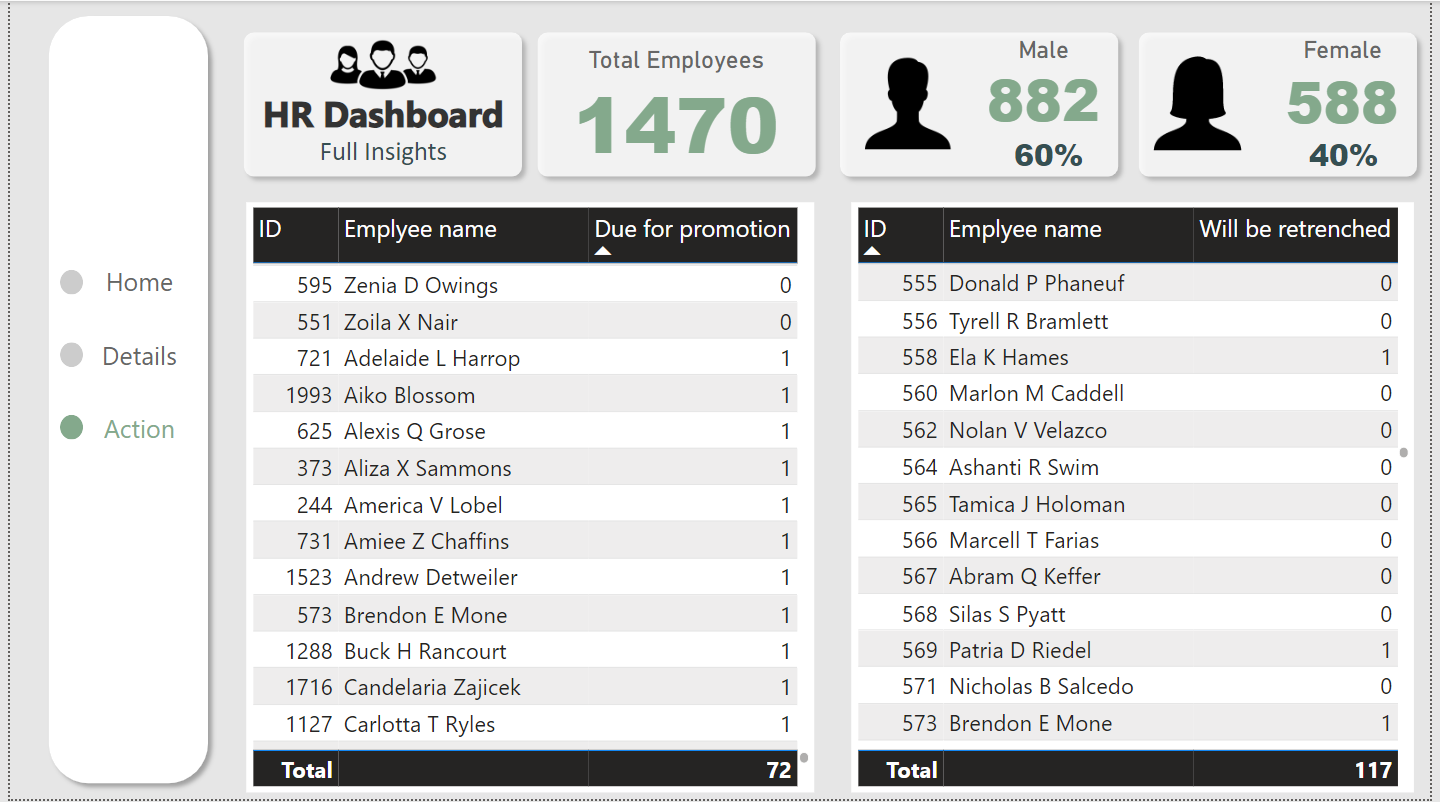

The page's visual inventory and layout, read from the dashboard file:
{"tool":"powerbi","page":{"name":"Action","canvas":[1280,720],"ordinal":2},"visuals":[{"type":"shape","box":[26.1,4.1,161.9,709.4],"z":0},{"type":"shape","box":[201.7,19.6,268.9,147.9],"z":1000},{"type":"shape","box":[467,19.6,268.9,147.9],"z":2000},{"type":"shape","box":[1008.6,19.2,269,148.2],"z":3000},{"type":"shape","box":[739.6,19.2,269,148.2],"z":4000},{"type":"textbox","box":[212.7,74.6,246.9,106.3],"z":5000},{"type":"textbox","box":[212.7,114.9,246.9,52.6],"z":6000},{"type":"card","title":"Total Employees","fields":{"Values":["All Measures.Total Emp"]},"box":[486.5,40.3,227.4,106.3],"z":7000},{"type":"card","title":"Male","fields":{"Values":["All Measures.Male"]},"box":[863,31.8,136.9,85.6],"z":8000},{"type":"card","title":"Female","fields":{"Values":["All Measures.Female"]},"box":[1136.8,31.8,128.4,90.5],"z":9000},{"type":"card","title":"Male","fields":{"Values":["All Measures.% male"]},"box":[871.6,114.9,128.4,48.9],"z":10000},{"type":"card","title":"Male","fields":{"Values":["All Measures.% female"]},"box":[1138.1,114.9,128.4,48.9],"z":11000},{"type":"tableEx","fields":{"Values":["HR Data.EmployeeNumber","HR Data.Emplyee name","All Measures.Due for promotion"]},"box":[212.7,180.9,512.2,531.7],"z":12000},{"type":"tableEx","fields":{"Values":["HR Data.EmployeeNumber","HR Data.Emplyee name","All Measures.Will be retrenched"]},"box":[757.9,180.9,507.3,531.7],"z":13000},{"type":"shape","box":[45.2,242,20.8,22],"z":14000},{"type":"shape","box":[45.2,372.8,20.8,22],"z":15000},{"type":"shape","box":[45.2,308,20.8,22],"z":16000},{"type":"actionButton","box":[66,232.3,100.2,40.3],"z":17000},{"type":"actionButton","box":[66,298.3,100.2,40.3],"z":18000},{"type":"actionButton","box":[66,364.3,100.2,40.3],"z":19000},{"type":"image","box":[209,0,253,117.4],"z":20000},{"type":"image","box":[751.4,32.9,111.4,120],"z":21000},{"type":"image","box":[1011.4,35.7,112.9,114.3],"z":22000}]}

Visuals, with their boxes in screenshot pixels (x1, y1, x2, y2), scaled from the page's 1280x720 canvas onto the 1440x802 screenshot:
shape: bbox=(29, 5, 212, 795)
shape: bbox=(227, 22, 529, 187)
shape: bbox=(525, 22, 828, 187)
shape: bbox=(1135, 21, 1437, 186)
shape: bbox=(832, 21, 1135, 186)
textbox: bbox=(239, 83, 517, 202)
textbox: bbox=(239, 128, 517, 187)
"Total Employees" card: bbox=(547, 45, 803, 163)
"Male" card: bbox=(971, 35, 1125, 131)
"Female" card: bbox=(1279, 35, 1423, 136)
"Male" card: bbox=(981, 128, 1125, 182)
"Male" card: bbox=(1280, 128, 1425, 182)
tableEx - HR Data.EmployeeNumber x HR Data.Emplyee name: bbox=(239, 202, 816, 794)
tableEx - HR Data.EmployeeNumber x HR Data.Emplyee name: bbox=(853, 202, 1423, 794)
shape: bbox=(51, 270, 74, 294)
shape: bbox=(51, 415, 74, 440)
shape: bbox=(51, 343, 74, 368)
actionButton: bbox=(74, 259, 187, 304)
actionButton: bbox=(74, 332, 187, 377)
actionButton: bbox=(74, 406, 187, 451)
image: bbox=(235, 0, 520, 131)
image: bbox=(845, 37, 971, 170)
image: bbox=(1138, 40, 1265, 167)
